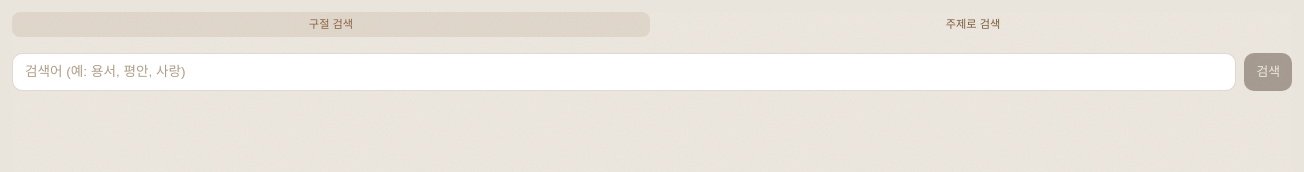
Test: SearchPanel › API 실패 시 에러 표시
Type "용서" into the field with placeholder "검색어 (예: 용서, 평안, 사랑)" at (624, 72), box [12,53,1236,91]
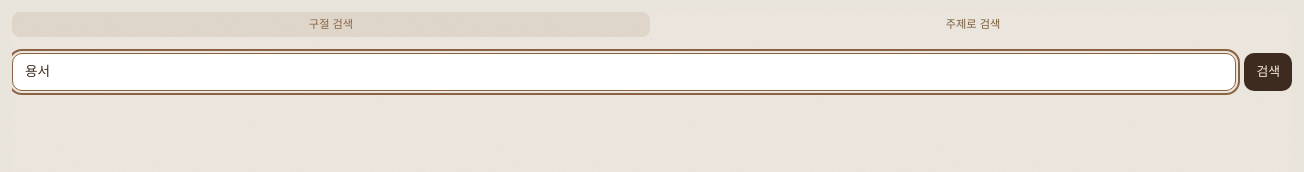
Click the button "검색" at (1268, 72), box [1244,53,1292,91]
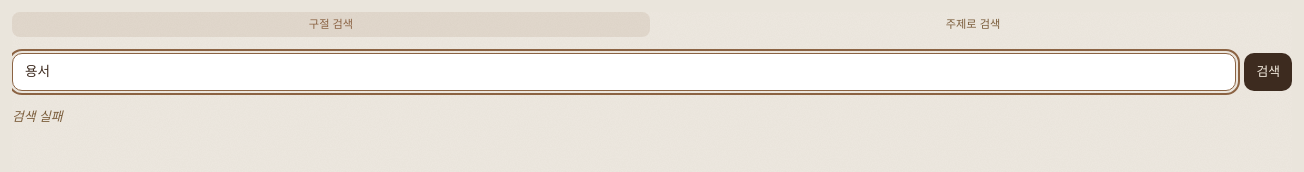
Expected: the text "검색 실패" is shown, [12,109,63,124]
